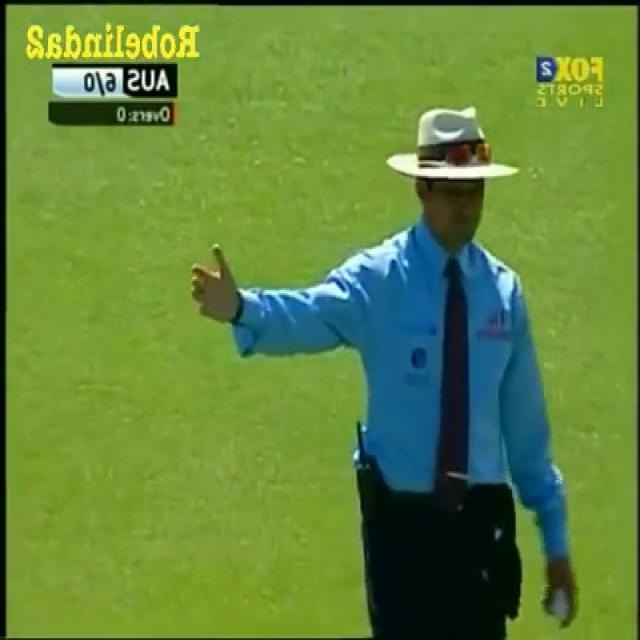No_Ball: (190, 100, 584, 637)
